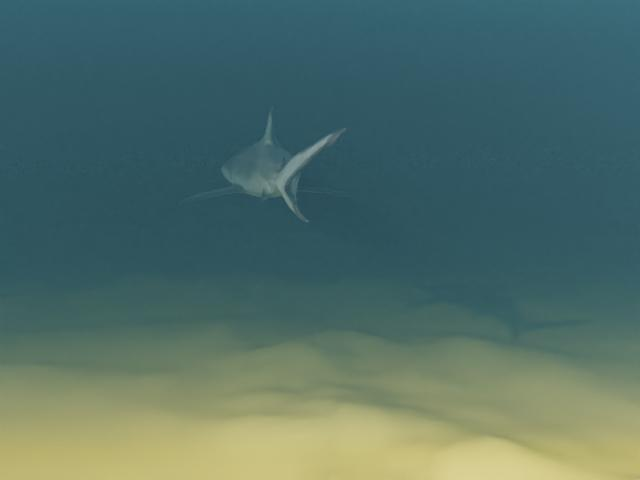Carribean Shark.001: (177, 106, 355, 223)
